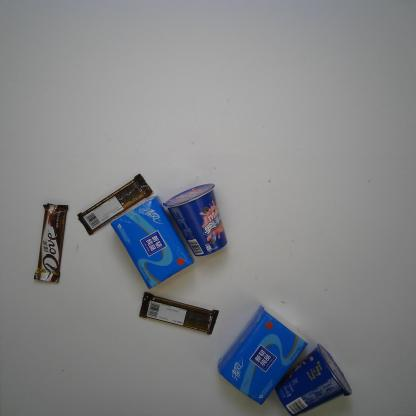Chocolate: (76, 172, 156, 237), (138, 289, 220, 337), (32, 202, 70, 284)
Dessert: (273, 340, 354, 415), (160, 181, 228, 259)
Tissue: (215, 301, 310, 408), (108, 194, 196, 292)
